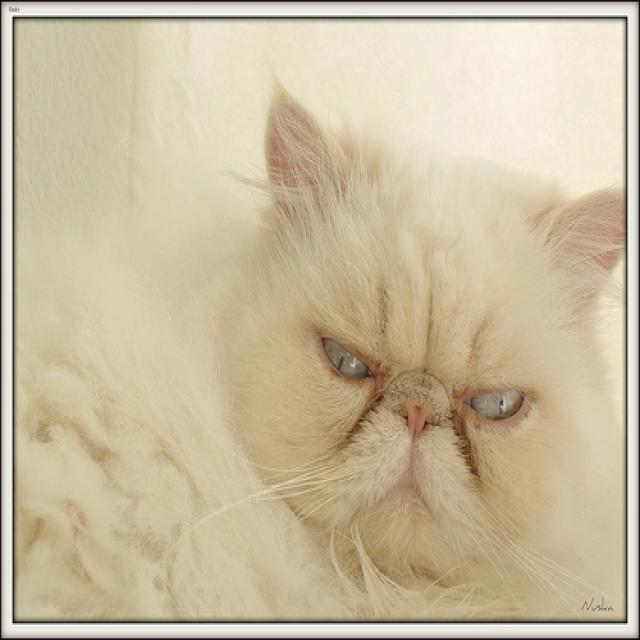Persian: (229, 76, 626, 586)
